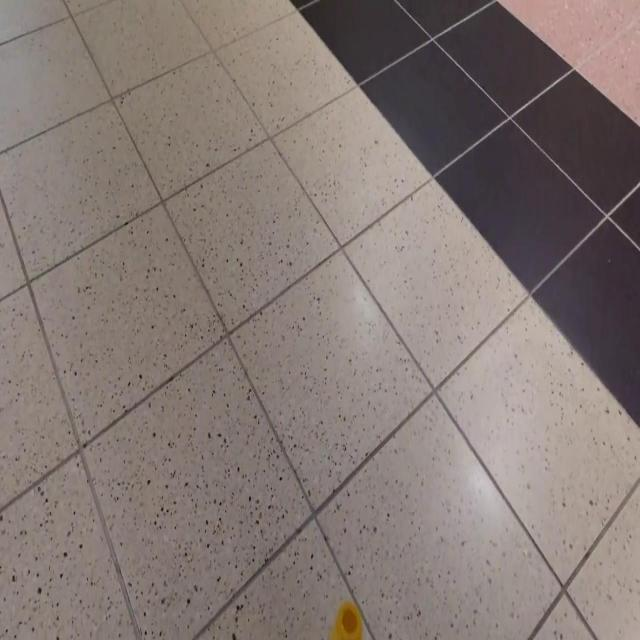frc_cone: (329, 600, 365, 640)
